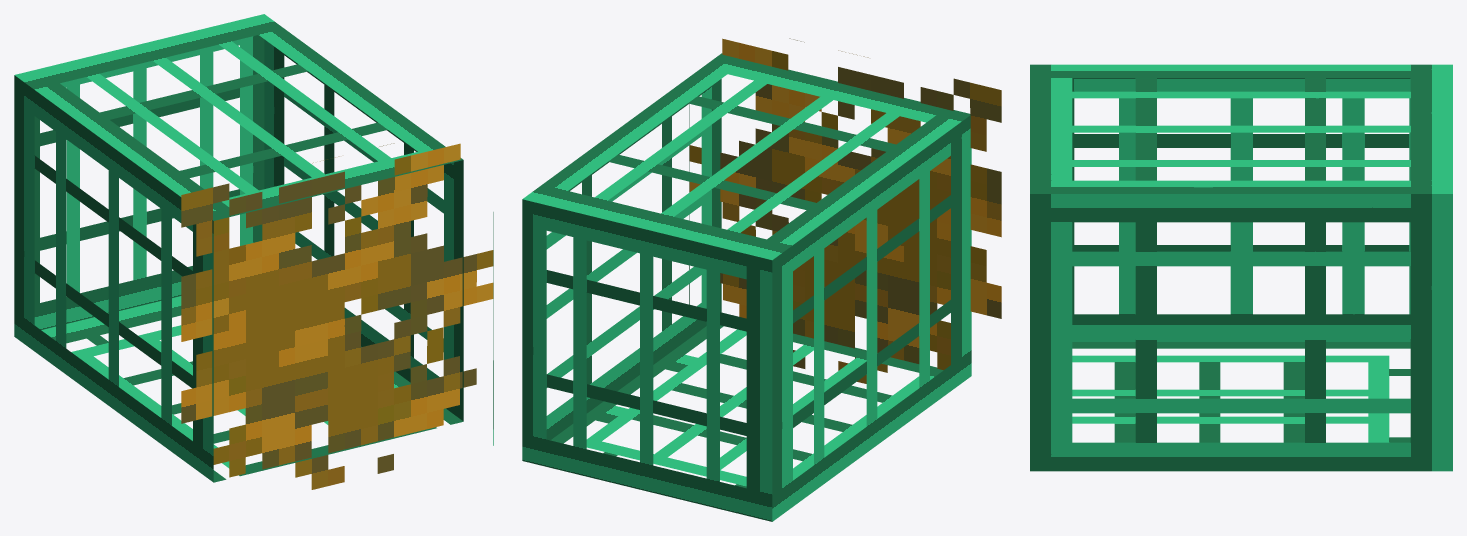
The model's file is cage.fbx.
The picture shows the model from 3 angles, left to right: view 1: azimuth 30°, elevation 25°; view 2: azimuth 150°, elevation 25°; view 3: azimuth 270°, elevation 25°; orthographic projection. The views are drawn at different scales.
Parts seen in each view (by area): view 1: cage_base, cage_door; view 2: cage_base, cage_door; view 3: cage_base, cage_door.
Part boxes in pixels (<box>): cage_base: <box>14,14,493,489</box>; cage_door: <box>71,325,436,476</box>; cage_base: <box>522,38,1001,521</box>; cage_door: <box>586,329,943,486</box>; cage_base: <box>1030,64,1452,471</box>; cage_door: <box>1072,355,1389,442</box>.
Bounding box in the file's own units: 1.13 × 1.13 × 1.25.
